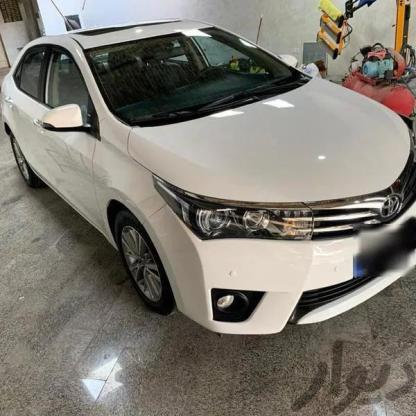Car: (0, 22, 416, 336)
